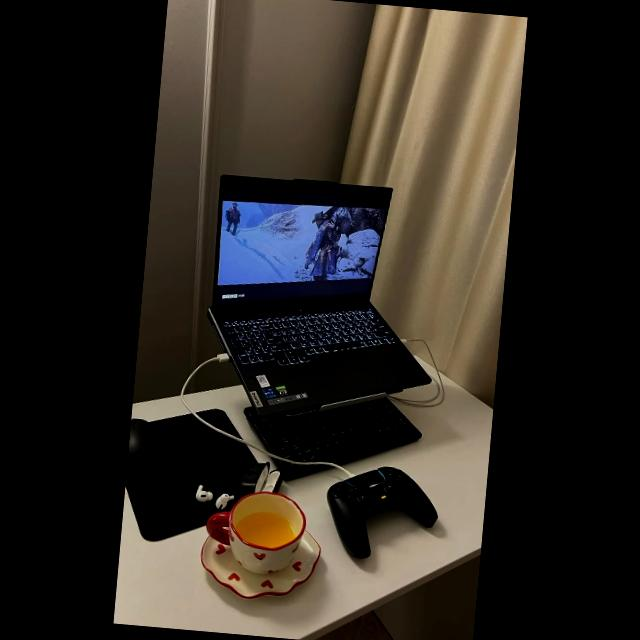laptop: (207, 175, 430, 424)
